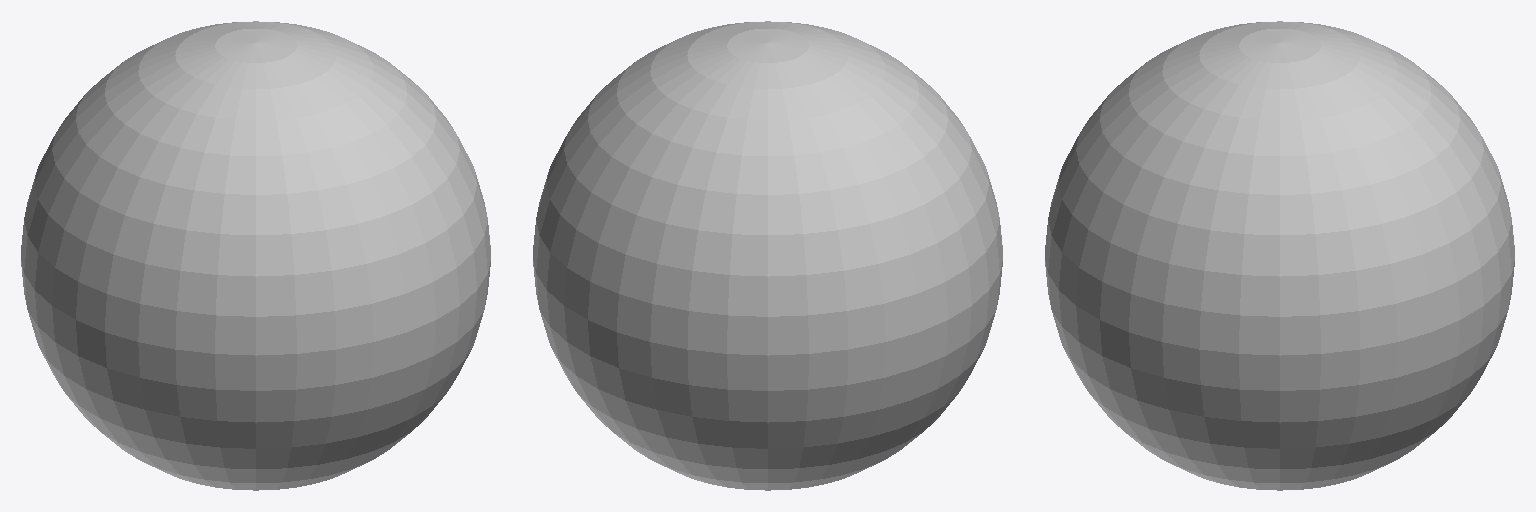
Rendered from minivenus.obj.
The picture shows the model from 3 angles: view 1: azimuth 30°, elevation 25°; view 2: azimuth 150°, elevation 25°; view 3: azimuth 270°, elevation 25°; orthographic projection.
Visible parts, largest first — view 1: Sphere.016; view 2: Sphere.016; view 3: Sphere.016.
Boxes of the visible parts, box(x1,y1,x2,y2) form: Sphere.016: box(21, 21, 490, 490); Sphere.016: box(533, 21, 1002, 490); Sphere.016: box(1045, 21, 1514, 490).
Size of the model in its own units: 3630 by 3630 by 3630.